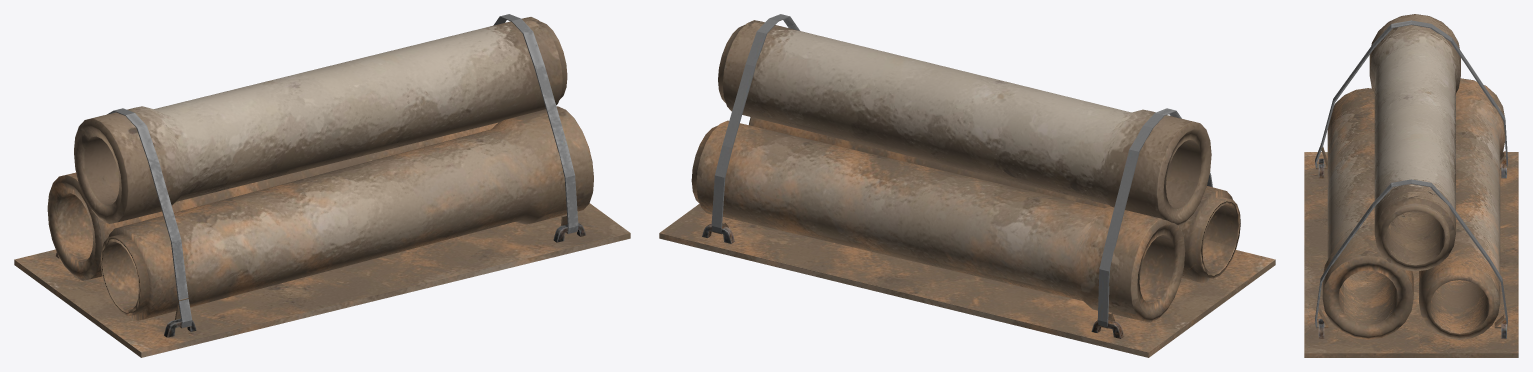
Rendered from concreate_pipes_zenless_zone_zero_fanart.glb.
3 views of the same model, side by side, from view 1: azimuth 30°, elevation 25°; view 2: azimuth 150°, elevation 25°; view 3: azimuth 270°, elevation 25° (orthographic). The views are drawn at different scales.
Visible parts, largest first — view 1: pCube11; view 2: pCube11; view 3: pCube11.
Boxes of the visible parts, x1,y1,x2,y2 form: pCube11: (14,14,630,357); pCube11: (659,14,1275,357); pCube11: (1304,14,1518,357).
Size of the model in its own units: 50.89 by 18.35 by 22.88.
1 material, 1 textured.
